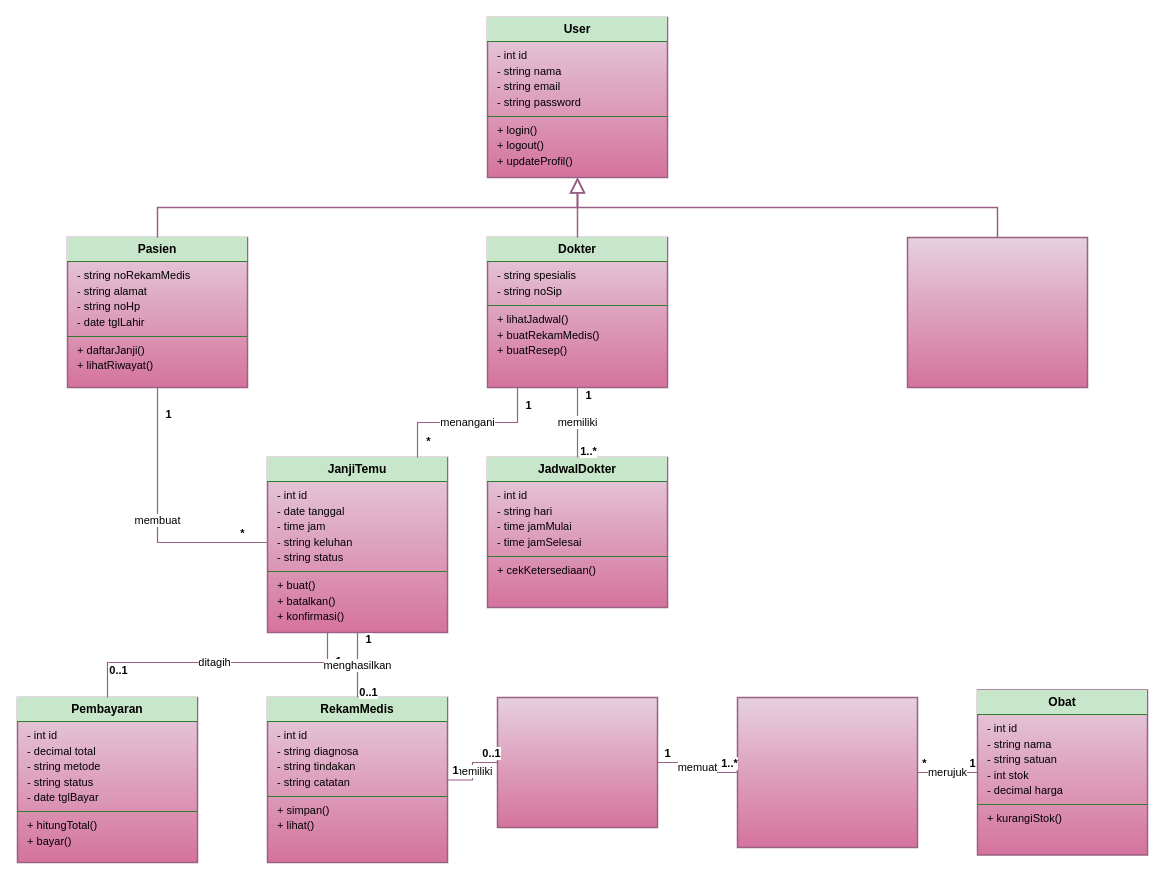
This 1166x881 diagram has some shape labels left out. The centre of each missing label's shape, as x and y in pixels:
Admin + kelolaDokter() + kelolaObat() + kelolaJadwal() + lihatLaporan(): pixel 997 312
DetailResep - int id - int jumlah - string dosis - string aturanPakai: pixel 827 772
Resep - int id - date tanggal + tambahObat() + cetak(): pixel 577 762
